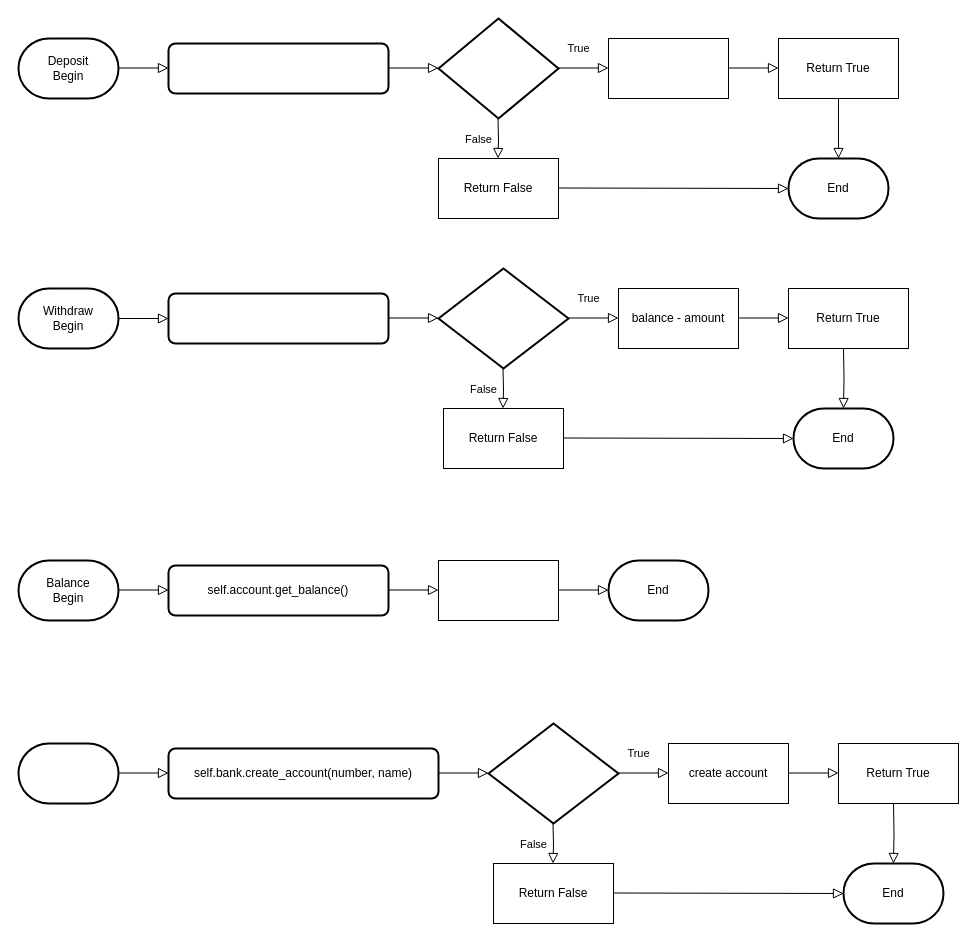
Some shapes in this 976 by 941 pixel diagram are drawn without their labels. Each missing label, with the centre of its shape:
0<amount<balance?: [503,318]
amount>0?: [498,68]
balance + amount: [668,68]
Create Account Begin: [68,773]
number not in accounts?: [553,773]
Return balance: [498,590]
self.account.deposit(amount): [278,68]
self.account.withdraw(amount): [278,318]
